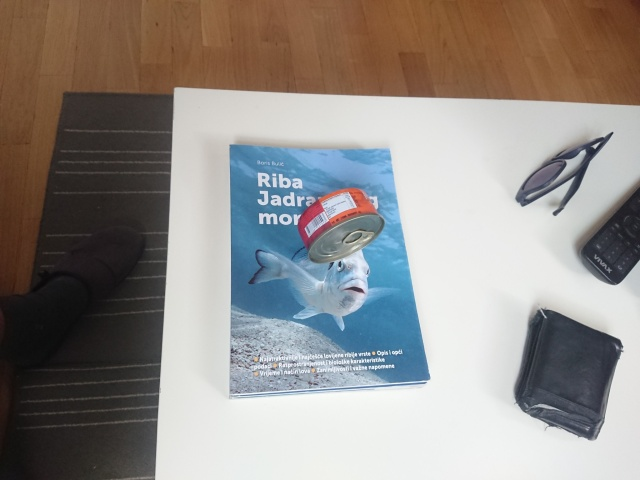Gavrilovic Pork Liver Pate 100g: (295, 185, 387, 265)
